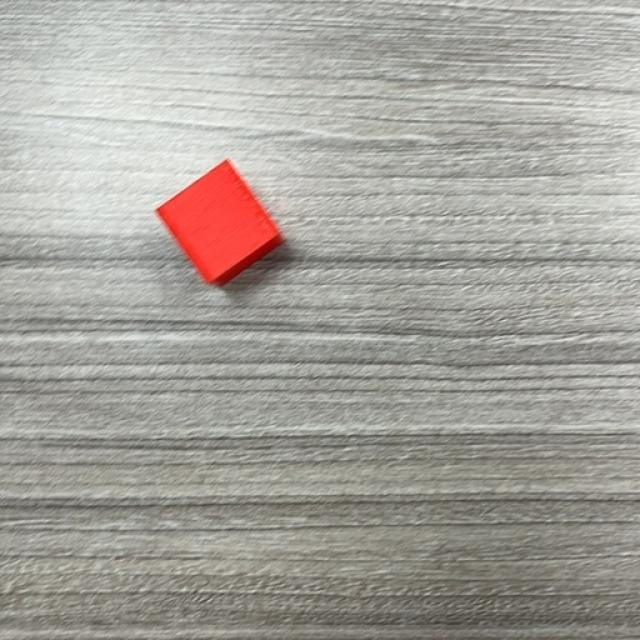Rojo: (154, 160, 285, 288)
